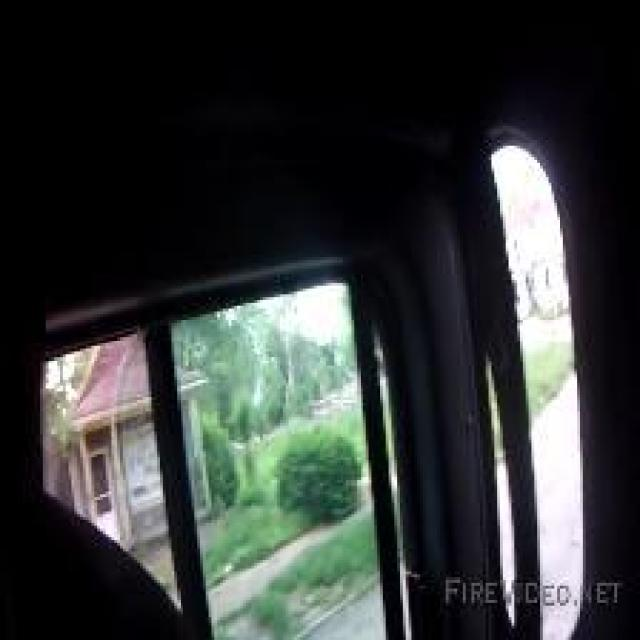other: (489, 141, 608, 588), (252, 286, 362, 342)
